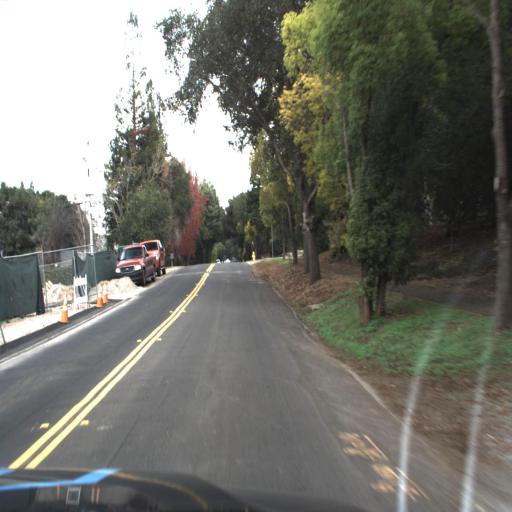car: (116, 244, 155, 286), (142, 233, 169, 276)
